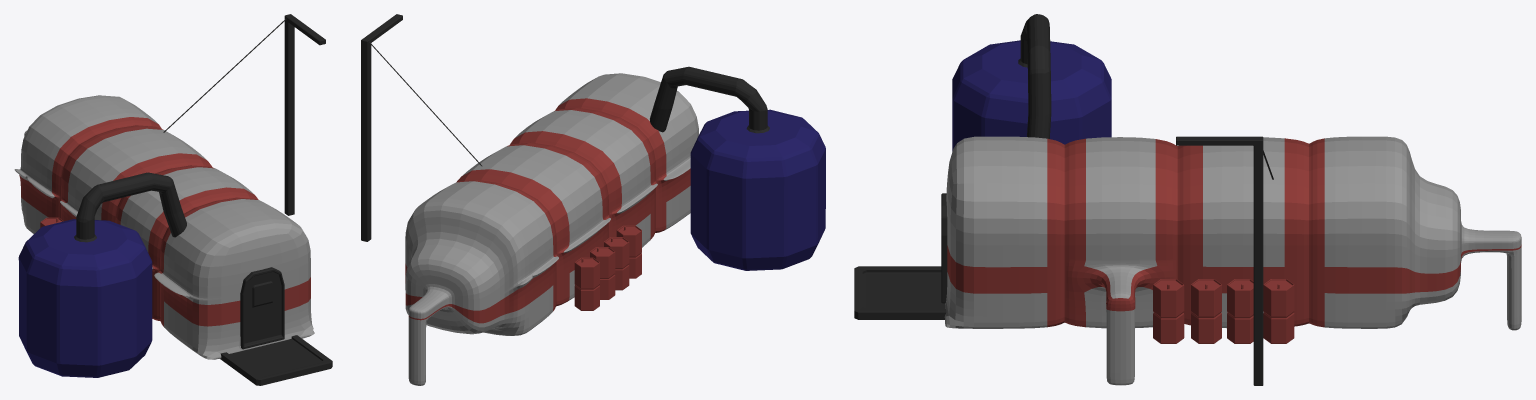
File: BAZA.fbx
The picture shows the model from 3 angles, left to right: view 1: azimuth 30°, elevation 25°; view 2: azimuth 150°, elevation 25°; view 3: azimuth 270°, elevation 25°; orthographic projection. The views are drawn at different scales.
Visible parts, largest first — view 1: Cube, Cylinder.008, Cube.002, Plane, Cube.001; view 2: Cube, Cylinder.008, Cube.001, Cylinder.004, Cylinder.005, Cylinder.006, Cylinder.007; view 3: Cube, Cylinder.008, Cube.002, Cube.001, Cylinder.003, Cylinder, Cylinder.001, Cylinder.002, Plane.
Boxes of the visible parts, x1=… form: Cube: x1=14, y1=95, x2=314, y2=359; Cylinder.008: x1=18, y1=172, x2=186, y2=377; Cube.002: x1=220, y1=335, x2=332, y2=385; Plane: x1=240, y1=267, x2=284, y2=349; Cube.001: x1=163, y1=14, x2=325, y2=215; Cube: x1=405, y1=73, x2=698, y2=385; Cylinder.008: x1=650, y1=66, x2=825, y2=270; Cube.001: x1=361, y1=14, x2=482, y2=241; Cylinder.004: x1=574, y1=257, x2=599, y2=310; Cylinder.005: x1=590, y1=247, x2=615, y2=299; Cylinder.006: x1=604, y1=237, x2=629, y2=290; Cylinder.007: x1=616, y1=225, x2=641, y2=278; Cube: x1=944, y1=136, x2=1521, y2=385; Cylinder.008: x1=952, y1=14, x2=1111, y2=151; Cube.002: x1=854, y1=266, x2=946, y2=319; Cube.001: x1=1176, y1=136, x2=1273, y2=385; Cylinder.003: x1=1263, y1=279, x2=1294, y2=343; Cylinder: x1=1153, y1=279, x2=1184, y2=343; Cylinder.001: x1=1191, y1=279, x2=1221, y2=343; Cylinder.002: x1=1227, y1=279, x2=1253, y2=343; Plane: x1=941, y1=193, x2=947, y2=303.
Bounding box in the file's own units: 610 × 372 × 797.
